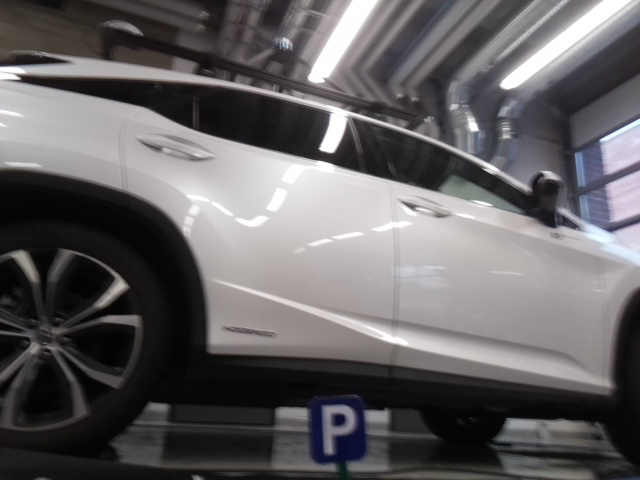Parking: (307, 396, 365, 460)
